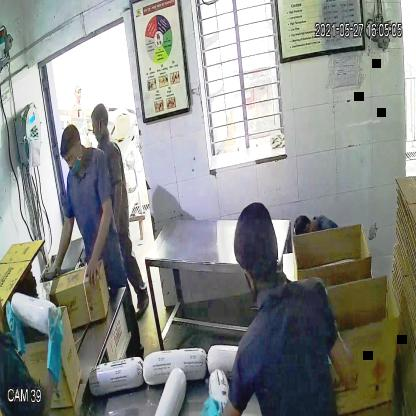no_goggles: (60, 144, 85, 172)
